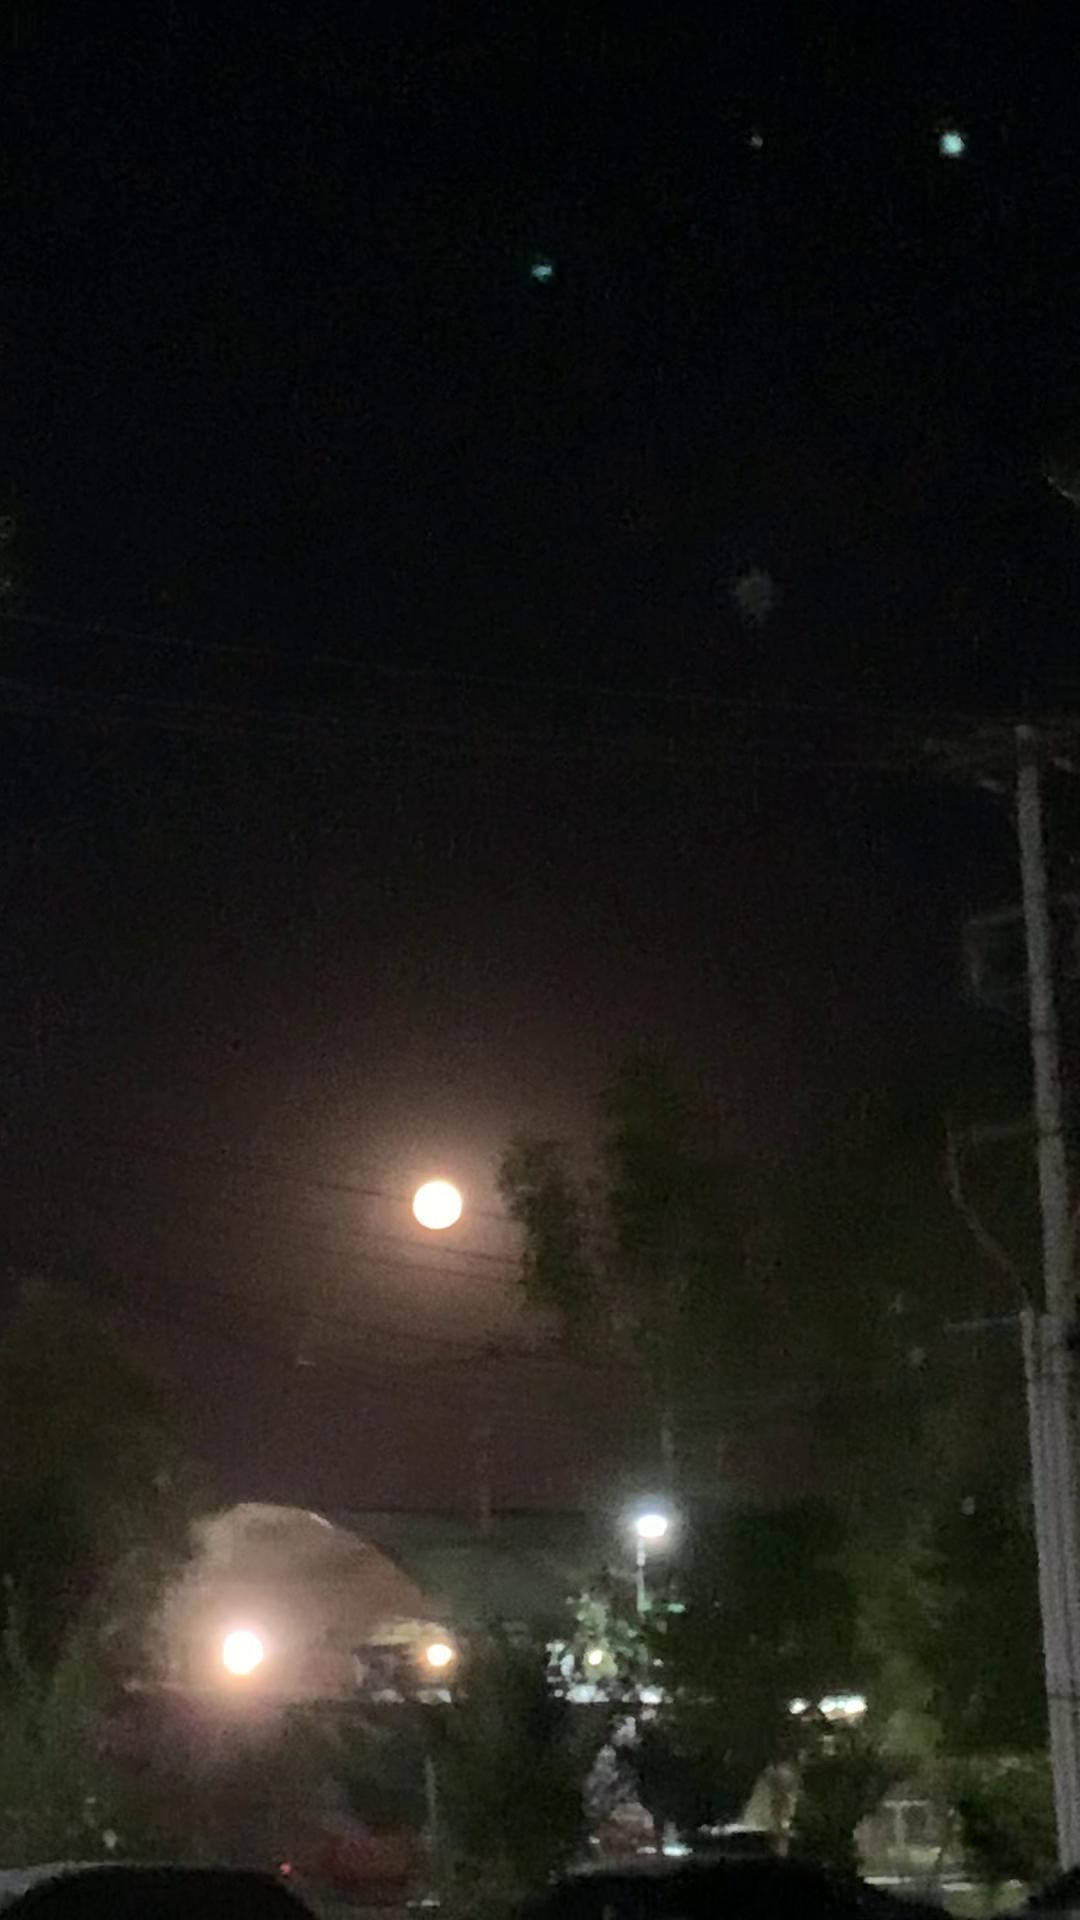moon: (385, 1154, 475, 1230)
